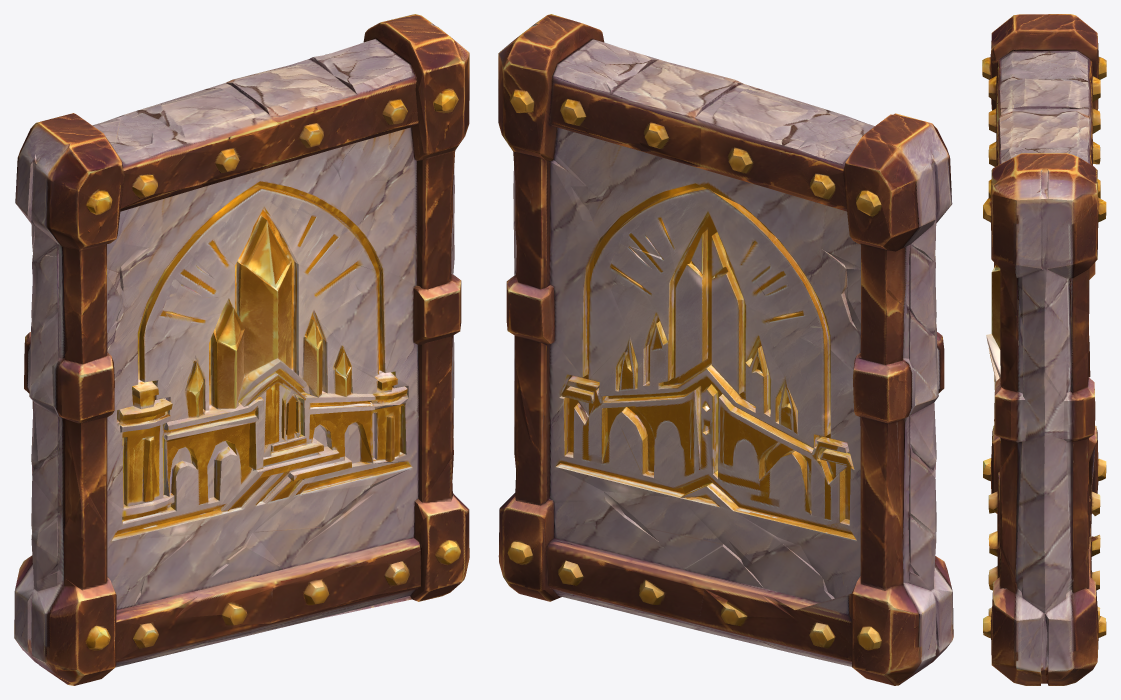
File: dalle-base.glb
The picture shows the model from 3 angles, left to right: view 1: azimuth 30°, elevation 25°; view 2: azimuth 150°, elevation 25°; view 3: azimuth 270°, elevation 25°; orthographic projection. The views are drawn at different scales.
Parts seen in each view (by area): view 1: Mesh_0; view 2: Mesh_0; view 3: Mesh_0.
Boxes of the visible parts, x1,y1,x2,y2 form: Mesh_0: (14, 14, 469, 685); Mesh_0: (498, 14, 953, 685); Mesh_0: (982, 14, 1106, 685).
Bounding box in the file's own units: 1.5 × 1.9 × 0.4121.
1 material, 1 textured.
